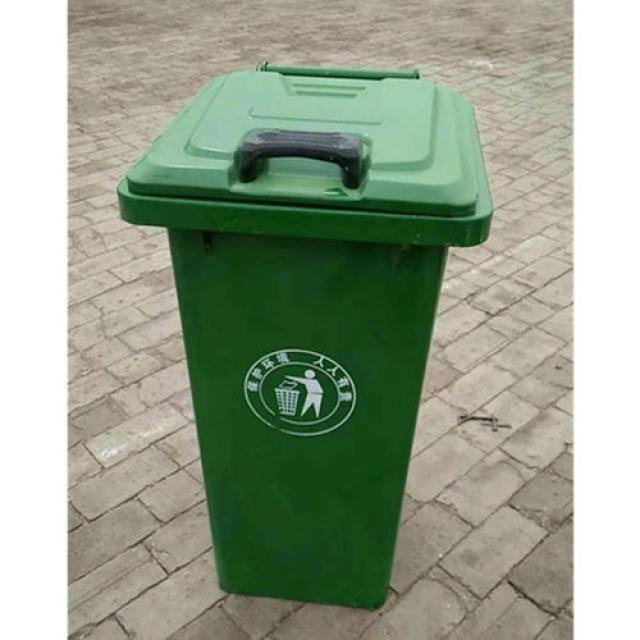garbage_bin: (115, 60, 490, 608)
